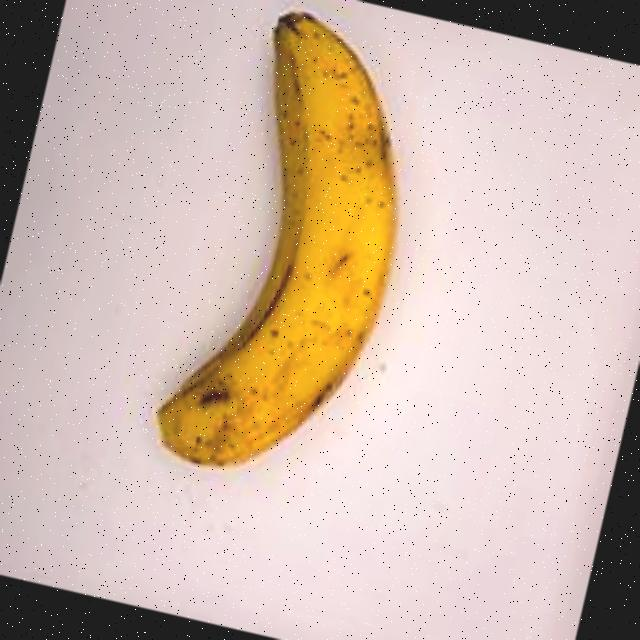Overripe: (91, 0, 480, 515)
